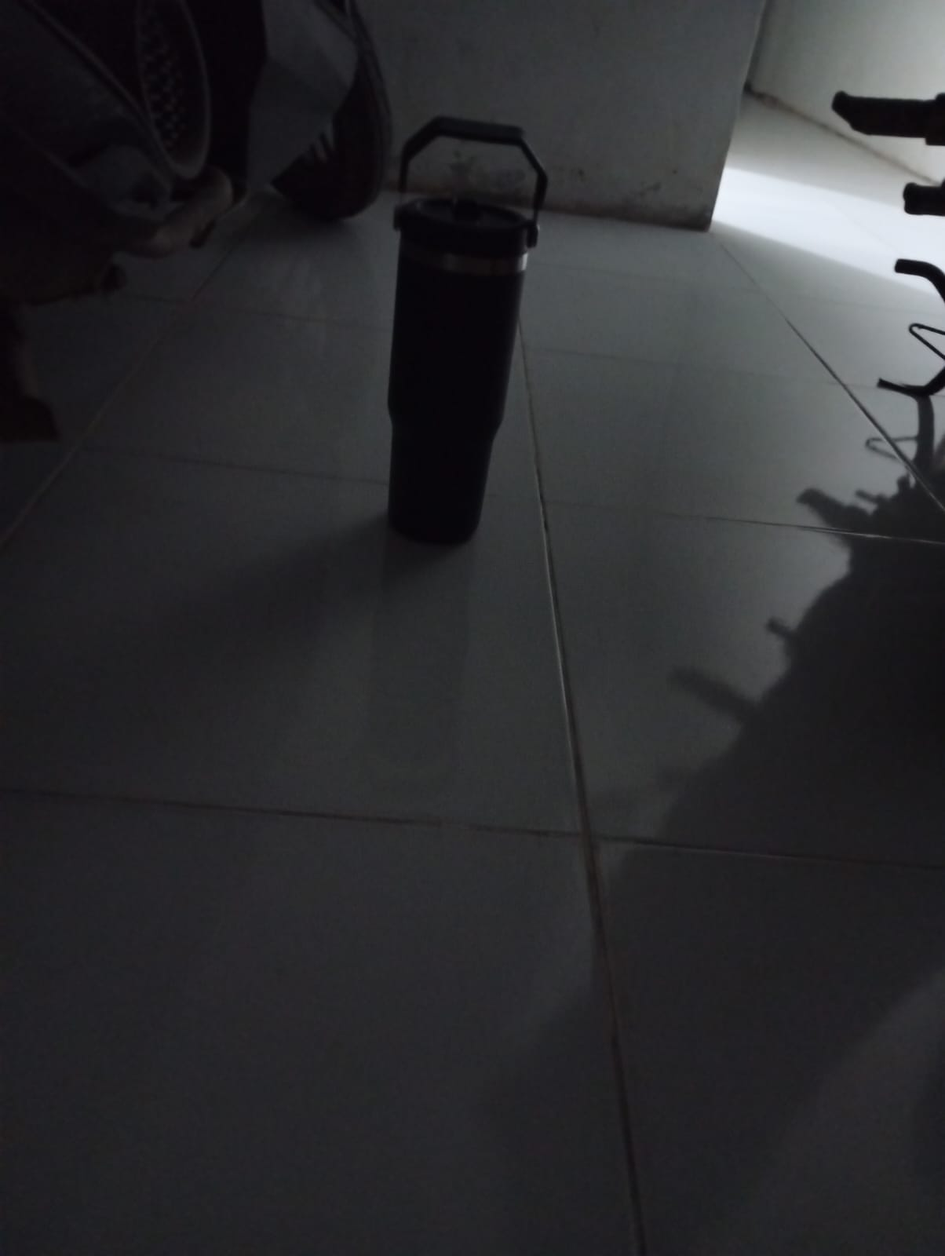Tupperware: (341, 93, 556, 587)
